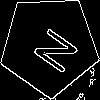N: (24, 20, 80, 76)
